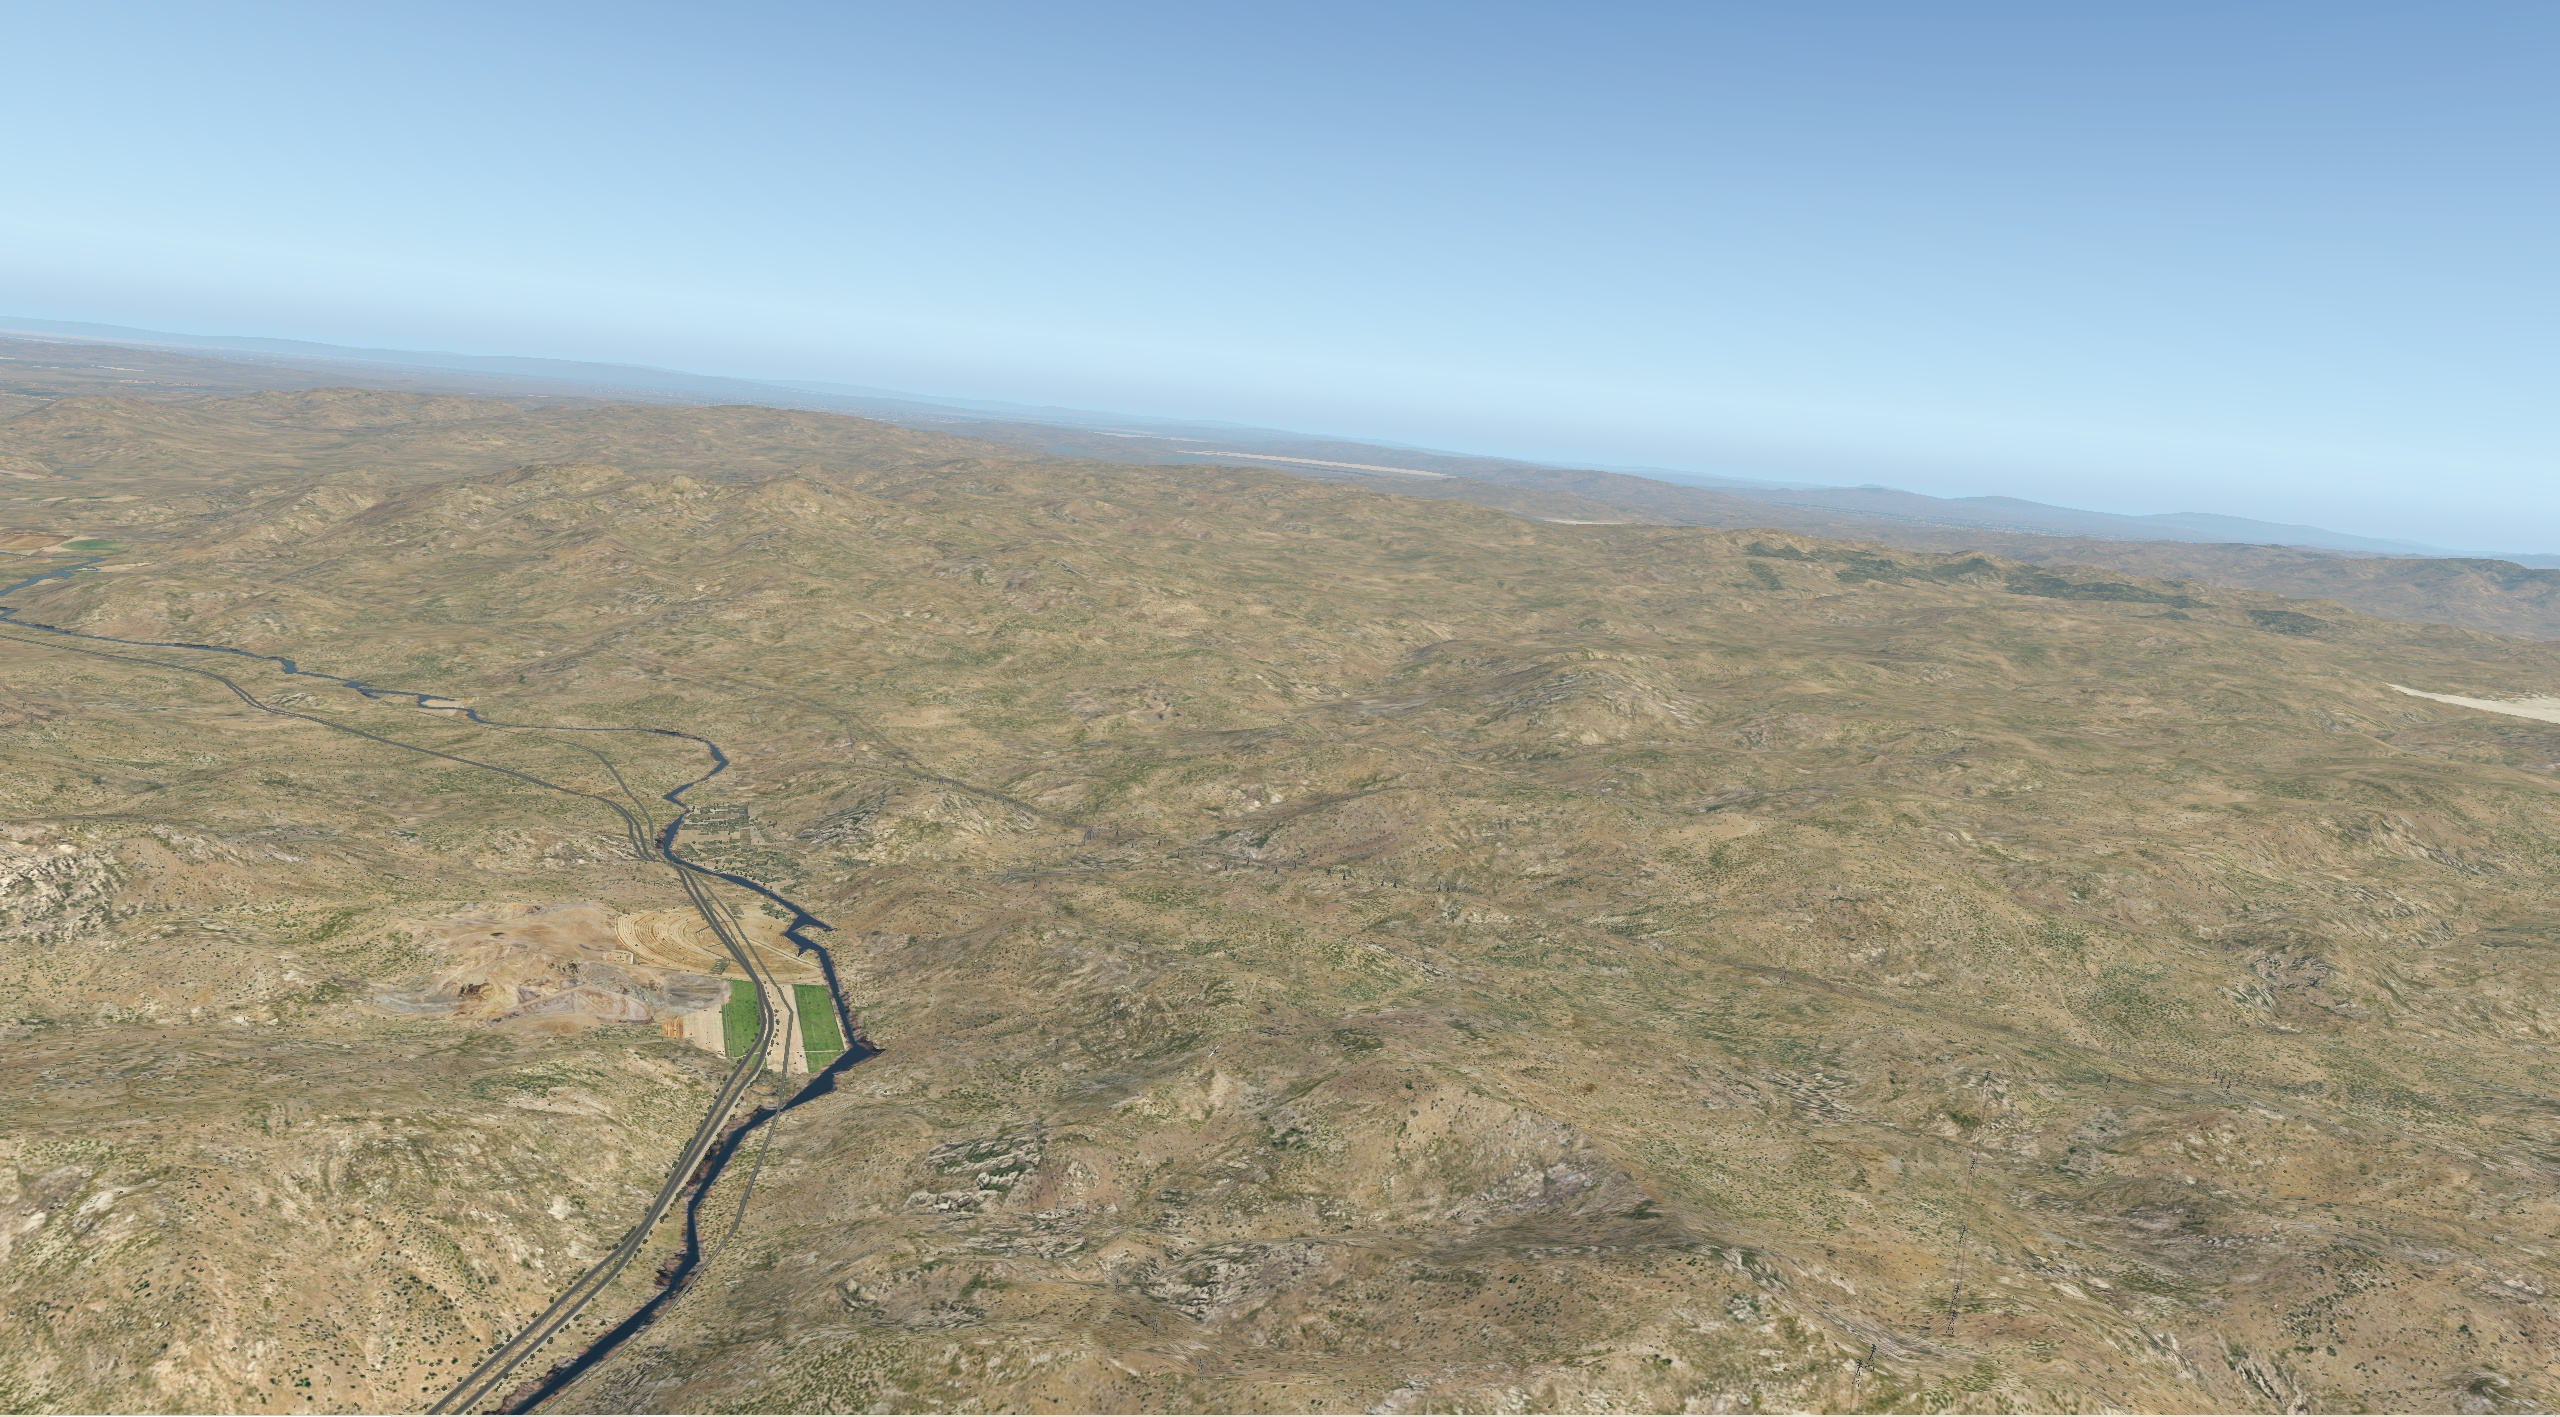aircraft: (1204, 1047, 1227, 1056)
